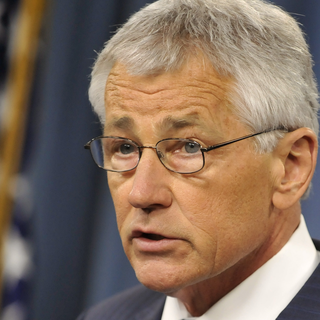eye: (165, 136, 214, 159), (104, 136, 143, 162)
